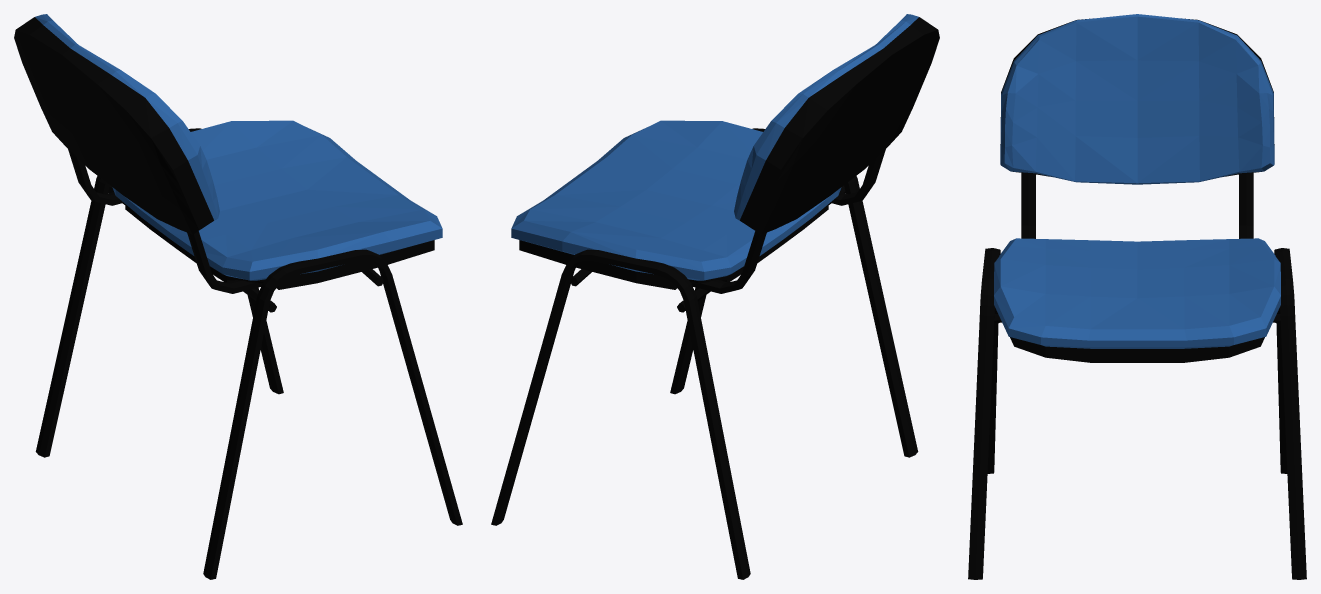
The model's file is Chair_01.obj.
3 views of the same model, side by side, from view 1: azimuth 30°, elevation 25°; view 2: azimuth 150°, elevation 25°; view 3: azimuth 270°, elevation 25° (orthographic). The views are drawn at different scales.
Visible parts, largest first — view 1: Chair_1_Datablock.002; view 2: Chair_1_Datablock.002; view 3: Chair_1_Datablock.002.
Part boxes in pixels (x1,y1,x2,y2): Chair_1_Datablock.002: [14, 14, 462, 579]; Chair_1_Datablock.002: [491, 14, 939, 579]; Chair_1_Datablock.002: [968, 14, 1306, 579].
Size of the model in its own units: 1.19 by 1.71 by 1.2.
